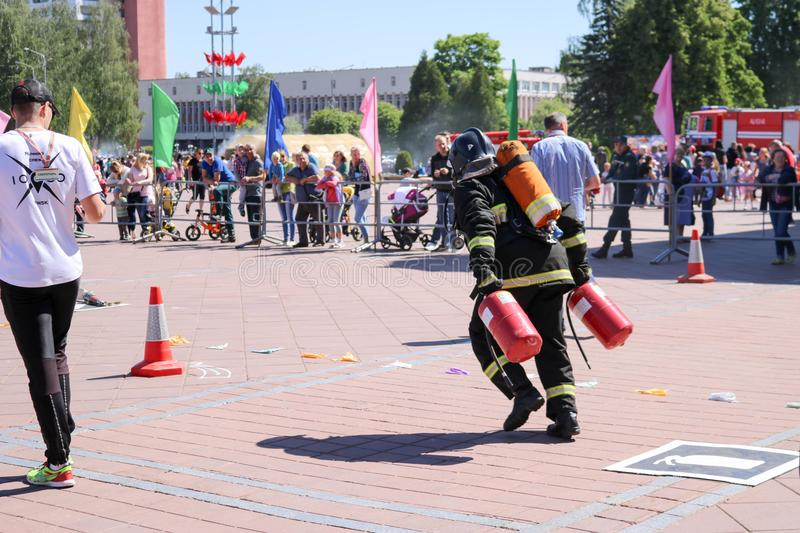fire_extinguisher: (566, 280, 633, 350)
